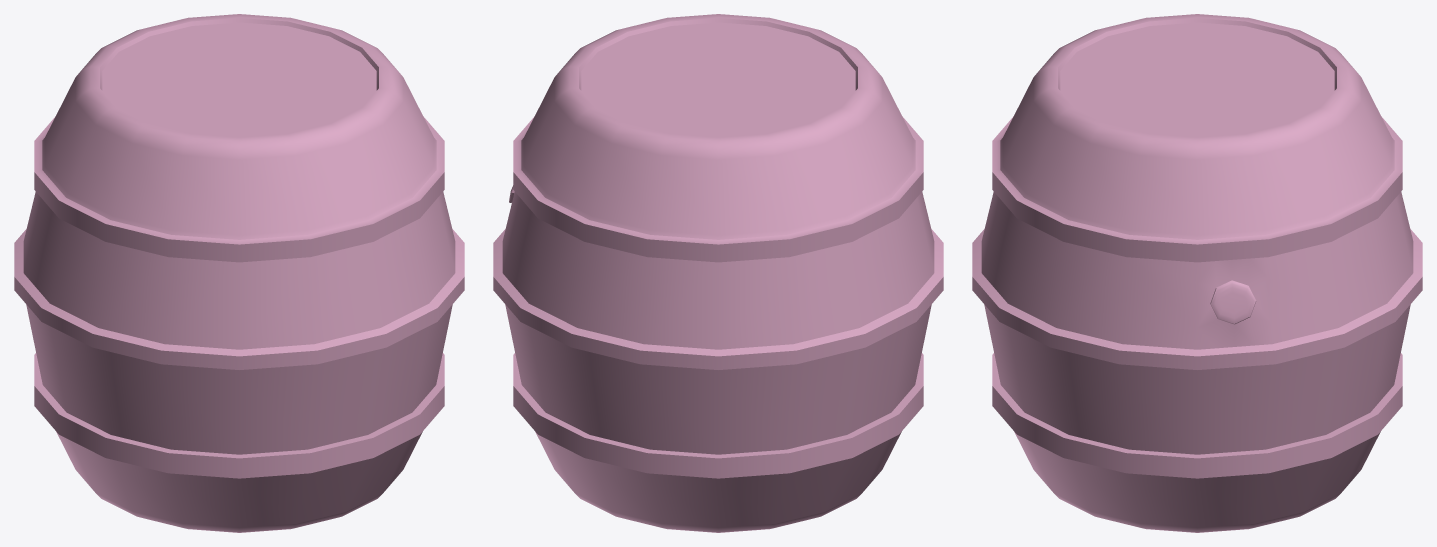
The model's file is barle.glb.
The picture shows the model from 3 angles, left to right: view 1: azimuth 30°, elevation 25°; view 2: azimuth 150°, elevation 25°; view 3: azimuth 270°, elevation 25°; orthographic projection.
Visible parts, largest first — view 1: Cylinder001; view 2: Cylinder001; view 3: Cylinder001.
Boxes of the visible parts, box(x1,y1,x2,y2) form: Cylinder001: box(14, 14, 464, 532); Cylinder001: box(493, 14, 943, 532); Cylinder001: box(972, 14, 1422, 532).
Bounding box in the file's own units: 2.81 × 2.65 × 2.77.
